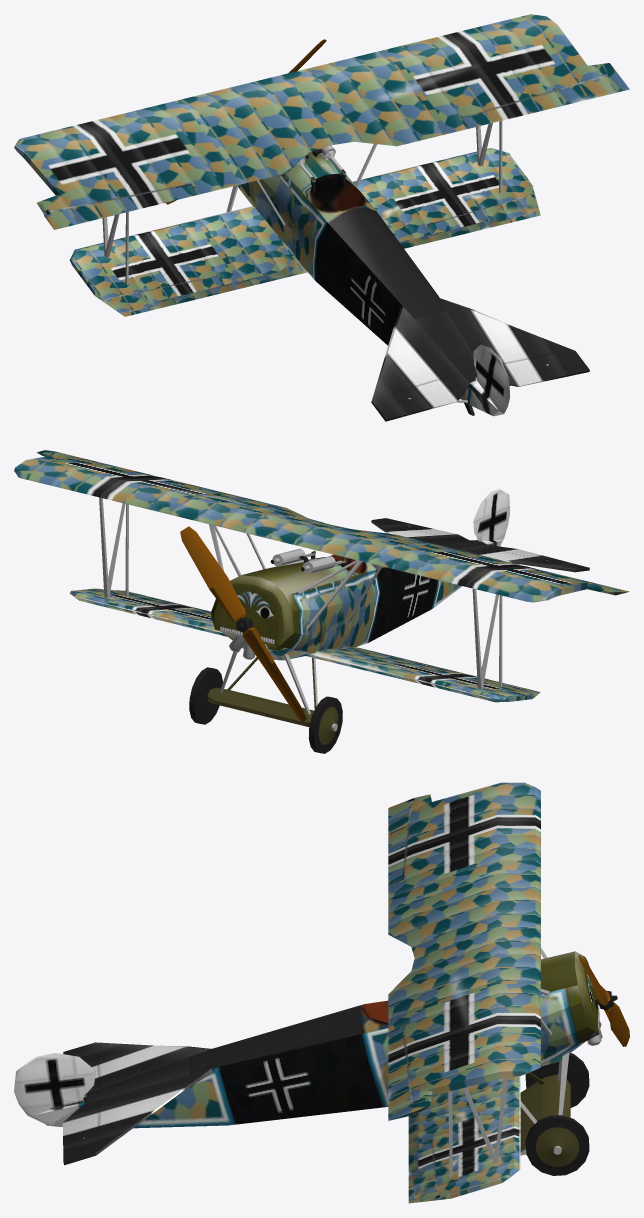
3 renders of one model, top to bottom at view 1: azimuth 30°, elevation 25°; view 2: azimuth 150°, elevation 25°; view 3: azimuth 270°, elevation 25°, orthographic. The views are drawn at different scales.
Visible parts, largest first — view 1: fokker wings_3, fokker hull_4, fokker adds_0; view 2: fokker wings_3, fokker hull_4, fokker adds_0, fokker rotor_2; view 3: fokker wings_3, fokker hull_4, fokker adds_0, fokker rotor_2.
Boxes of the visible parts, bbox=[...] form: fokker wings_3: bbox=[14, 14, 629, 316]; fokker hull_4: bbox=[237, 151, 589, 421]; fokker adds_0: bbox=[102, 121, 548, 402]; fokker wings_3: bbox=[14, 450, 629, 702]; fokker hull_4: bbox=[211, 488, 589, 660]; fokker adds_0: bbox=[99, 497, 548, 753]; fokker rotor_2: bbox=[180, 526, 306, 722]; fokker wings_3: bbox=[388, 782, 540, 1203]; fokker hull_4: bbox=[14, 951, 599, 1165]; fokker adds_0: bbox=[83, 948, 589, 1177]; fokker rotor_2: bbox=[578, 955, 629, 1046].
Bounding box in the file's own units: 819 × 274 × 681.
6 materials, 2 textured.
